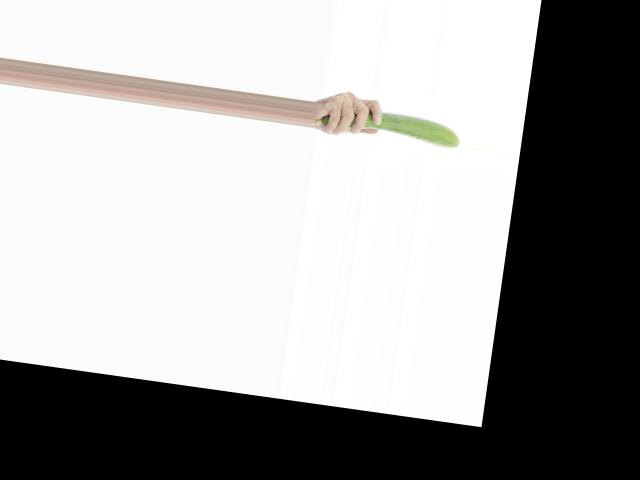cucumber: (315, 102, 463, 149)
